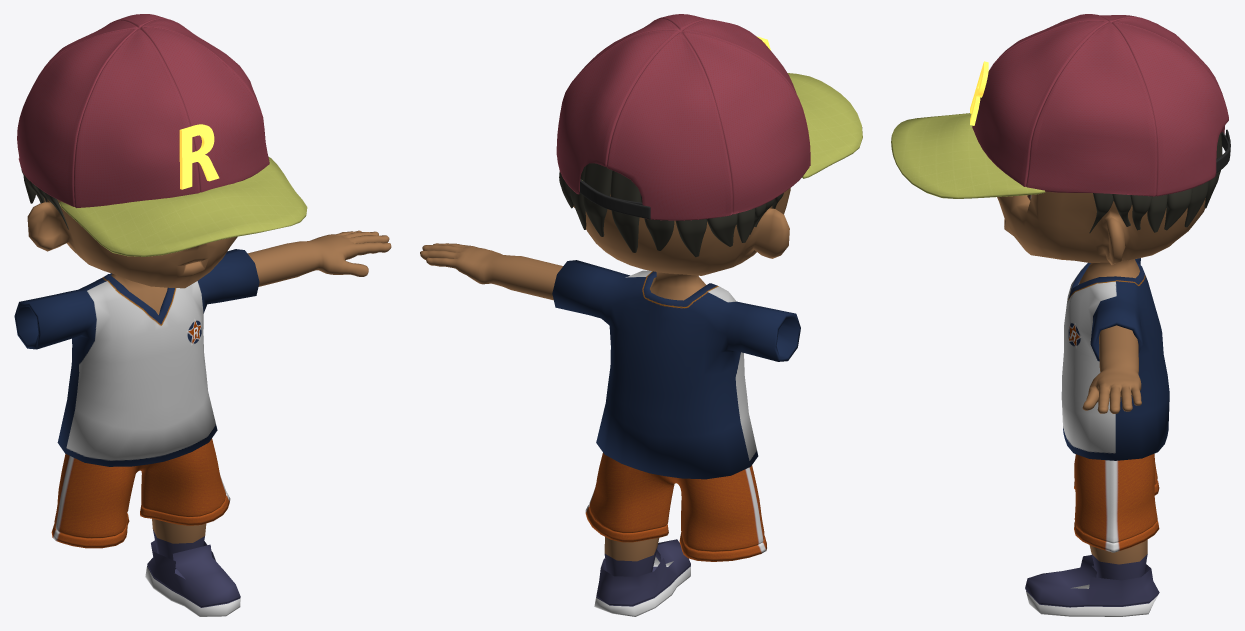
The model's file is roca.glb.
The picture shows the model from 3 angles, left to right: view 1: azimuth 30°, elevation 25°; view 2: azimuth 150°, elevation 25°; view 3: azimuth 270°, elevation 25°; orthographic projection. The views are drawn at different scales.
Parts seen in each view (by area): view 1: gorra, remera, pantalon, cuerpo, zapas, manos, piernas; view 2: gorra, remera, pantalon, cuerpo, pelo, manos, zapas, piernas; view 3: gorra, remera, cuerpo, pantalon, zapas, manos, pelo, piernas.
Boxes of the visible parts, x1,y1,x2,y2 form: gorra: [17, 14, 307, 256]; remera: [14, 249, 259, 466]; pantalon: [51, 439, 230, 548]; cuerpo: [27, 197, 237, 314]; zapas: [145, 540, 240, 616]; manos: [247, 230, 391, 286]; piernas: [152, 519, 206, 568]; gorra: [556, 14, 862, 220]; remera: [552, 260, 800, 479]; pantalon: [585, 453, 766, 561]; cuerpo: [573, 188, 790, 300]; pelo: [559, 163, 783, 257]; manos: [420, 243, 562, 300]; zapas: [594, 539, 690, 616]; piernas: [604, 537, 659, 576]; gorra: [891, 14, 1230, 198]; remera: [1061, 258, 1169, 460]; cuerpo: [997, 191, 1205, 333]; pantalon: [1074, 453, 1159, 552]; zapas: [1025, 555, 1159, 616]; manos: [1082, 325, 1141, 413]; pelo: [1089, 132, 1222, 233]; piernas: [1089, 539, 1147, 580].
Bounding box in the file's own units: 0.9223 × 1.39 × 0.7636.
13 materials, 4 textured.
